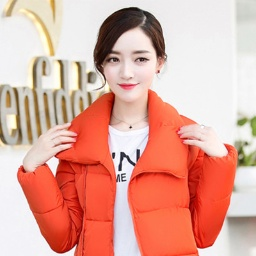face: (90, 5, 169, 104)
